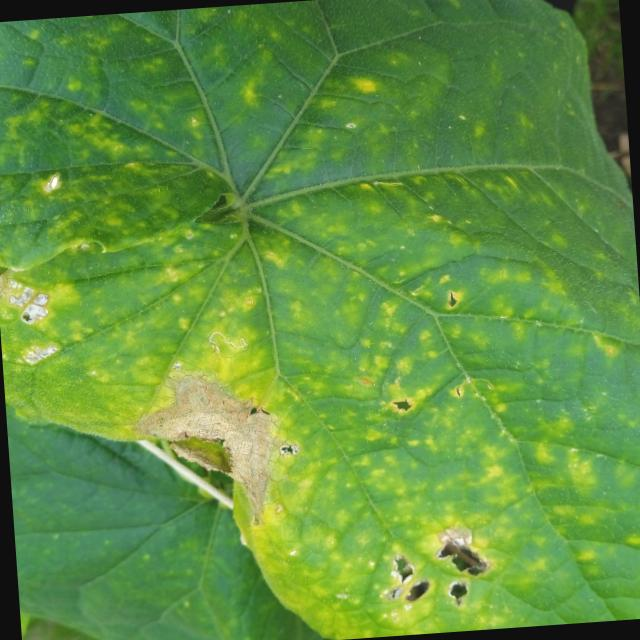cucumber_anthracnose: (0, 110, 589, 640)
